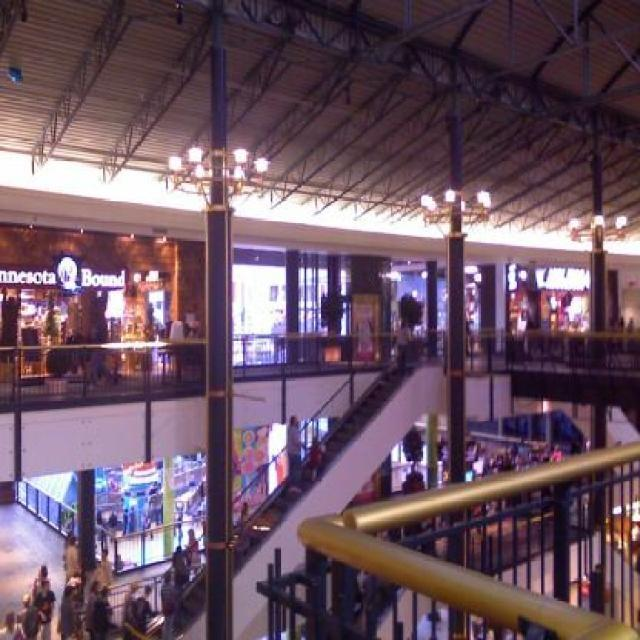stair: (158, 364, 412, 640)
